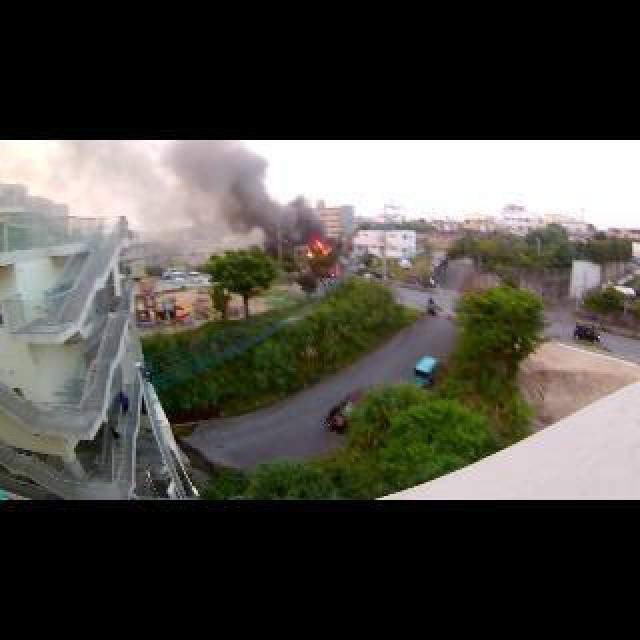Fire: (308, 240, 330, 256)
Smoke: (140, 140, 262, 206), (190, 184, 326, 242)
